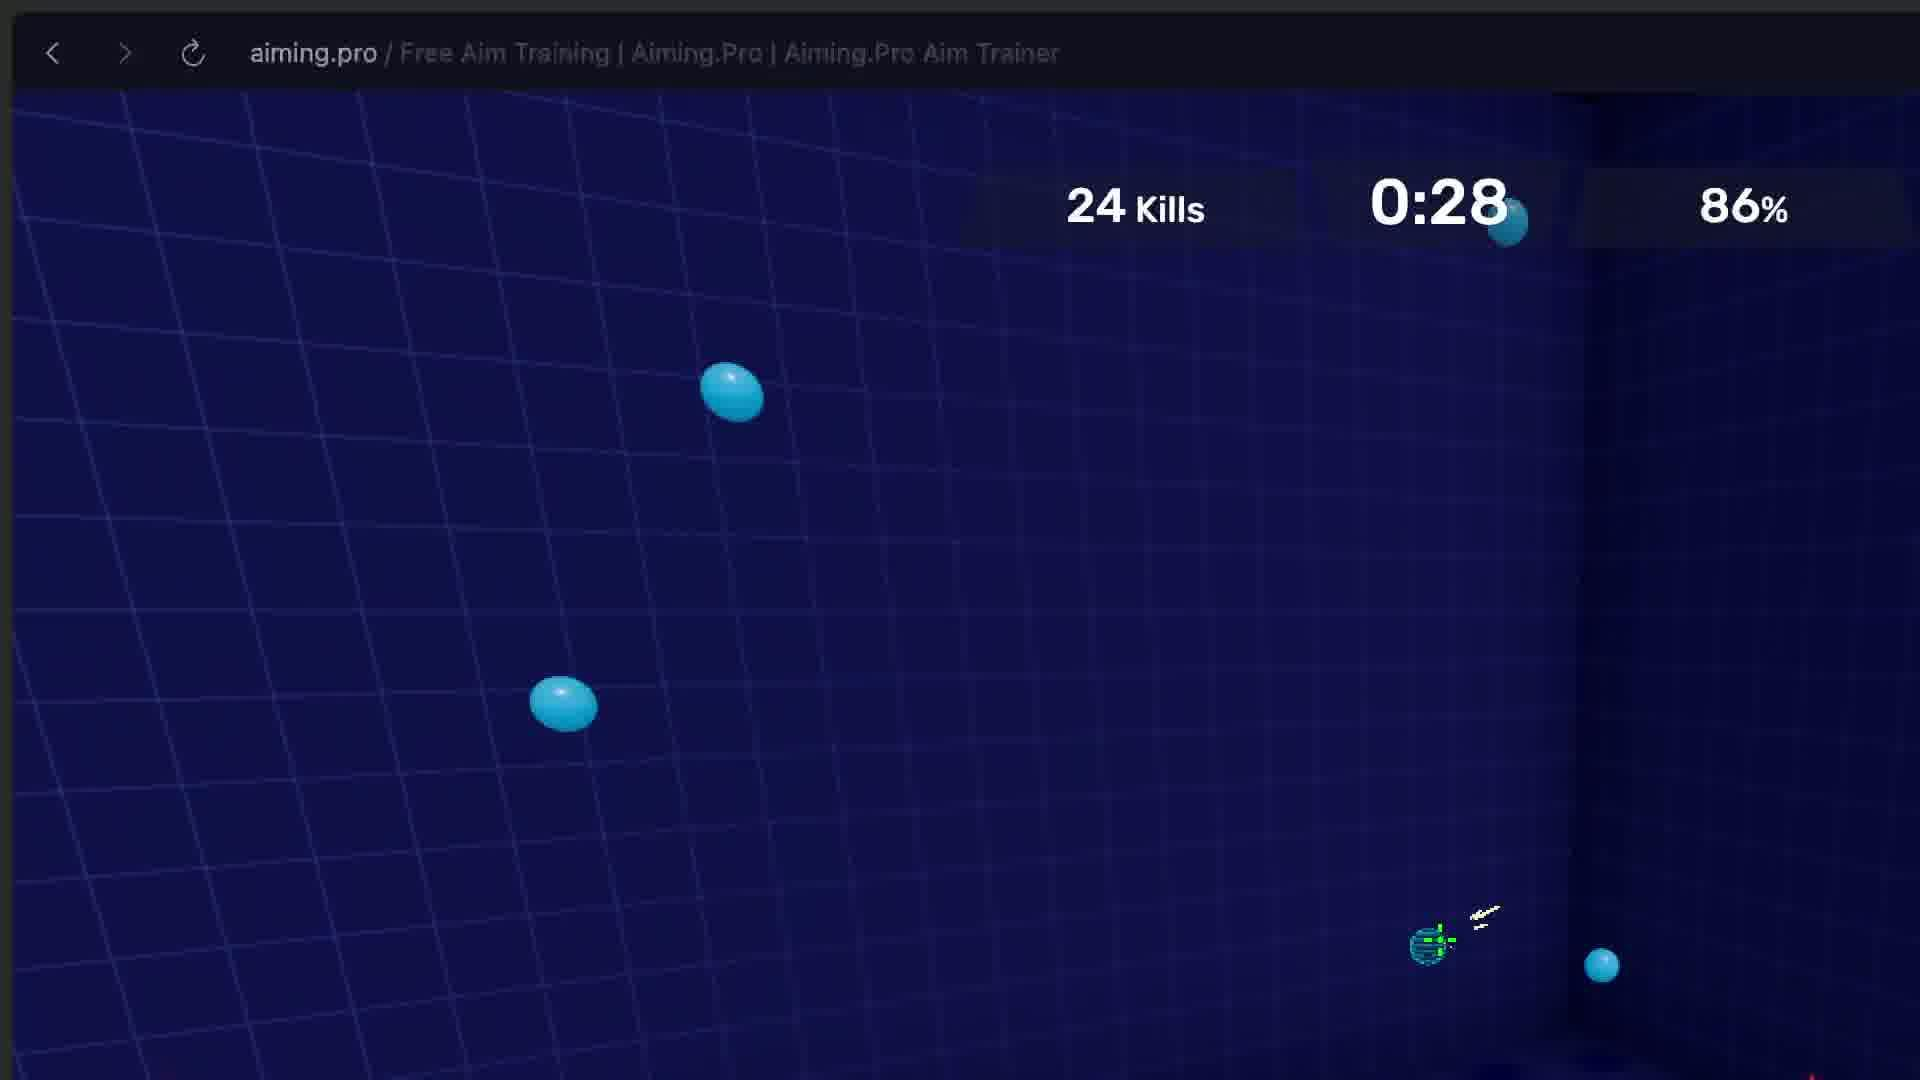target: (700, 363, 764, 423), (530, 675, 597, 732), (1582, 948, 1619, 984)
